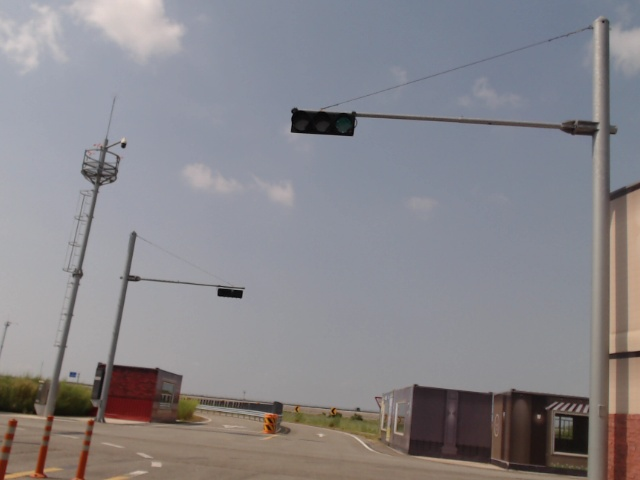green_3: (290, 108, 356, 137)
